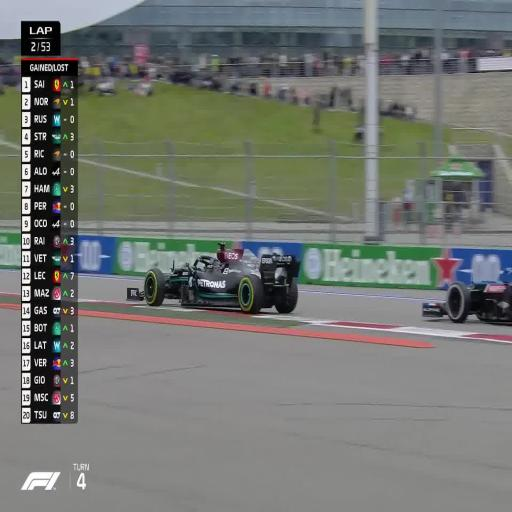f1_car: (127, 244, 300, 313), (422, 280, 512, 323), (503, 268, 512, 279), (504, 276, 506, 278)
